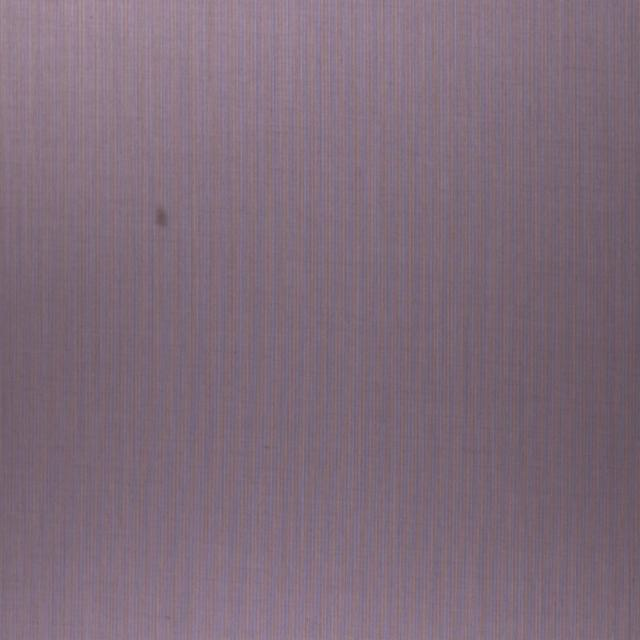dirty: (156, 206, 168, 232)
